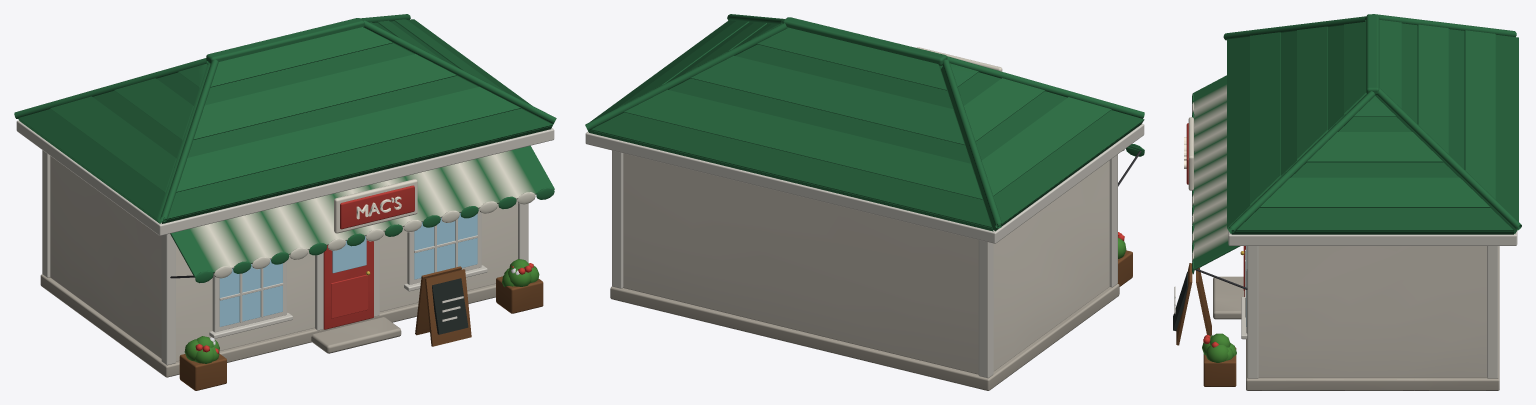
File: bld_restaurant.glb
The picture shows the model from 3 angles, left to right: view 1: azimuth 30°, elevation 25°; view 2: azimuth 150°, elevation 25°; view 3: azimuth 270°, elevation 25°; orthographic projection. The views are drawn at different scales.
Parts seen in each view (by area): view 1: bld_restaurant_main, bld_restaurant_glass; view 2: bld_restaurant_main; view 3: bld_restaurant_main.
Boxes of the visible parts, x1,y1,x2,y2 form: bld_restaurant_main: (14, 14, 556, 390); bld_restaurant_glass: (219, 213, 477, 326); bld_restaurant_main: (585, 14, 1144, 390); bld_restaurant_main: (1173, 14, 1521, 390).
Bounding box in the file's own units: 4.97 × 2.95 × 3.71.
